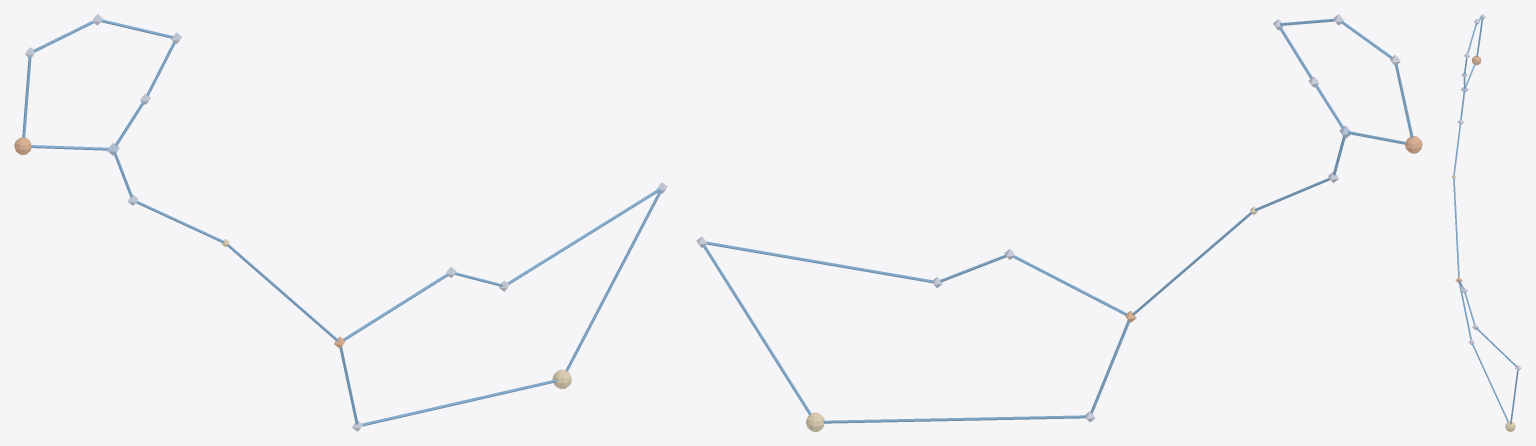
Rendered from constellation-cet.glb.
The picture shows the model from 3 angles, left to right: view 1: azimuth 30°, elevation 25°; view 2: azimuth 150°, elevation 25°; view 3: azimuth 270°, elevation 25°; orthographic projection. The views are drawn at different scales.
Bounding box in the file's own units: 4.2 × 3.01 × 0.6816.
